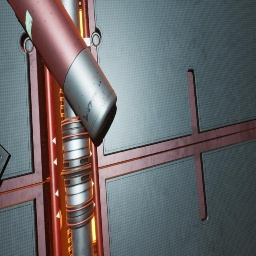NitrogenTank ,: (7, 0, 117, 140)
